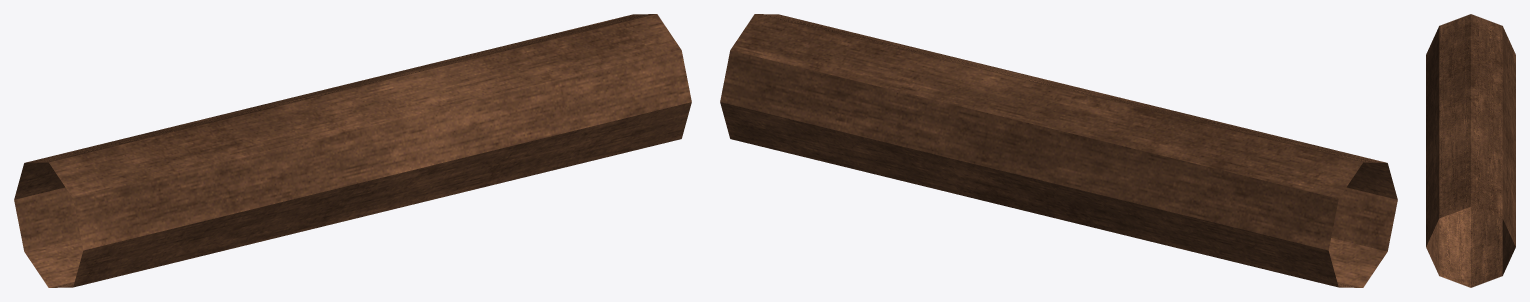
The model's file is woodSupport.fbx.
3 renders of one model, left to right at view 1: azimuth 30°, elevation 25°; view 2: azimuth 150°, elevation 25°; view 3: azimuth 270°, elevation 25°, orthographic. The views are drawn at different scales.
Parts seen in each view (by area): view 1: woodSupport13; view 2: woodSupport13; view 3: woodSupport13.
Part boxes in pixels (<box>): woodSupport13: <box>14,14,691,287</box>; woodSupport13: <box>720,14,1397,287</box>; woodSupport13: <box>1426,14,1515,287</box>.
Size of the model in its own units: 192 by 37.77 by 37.77.
